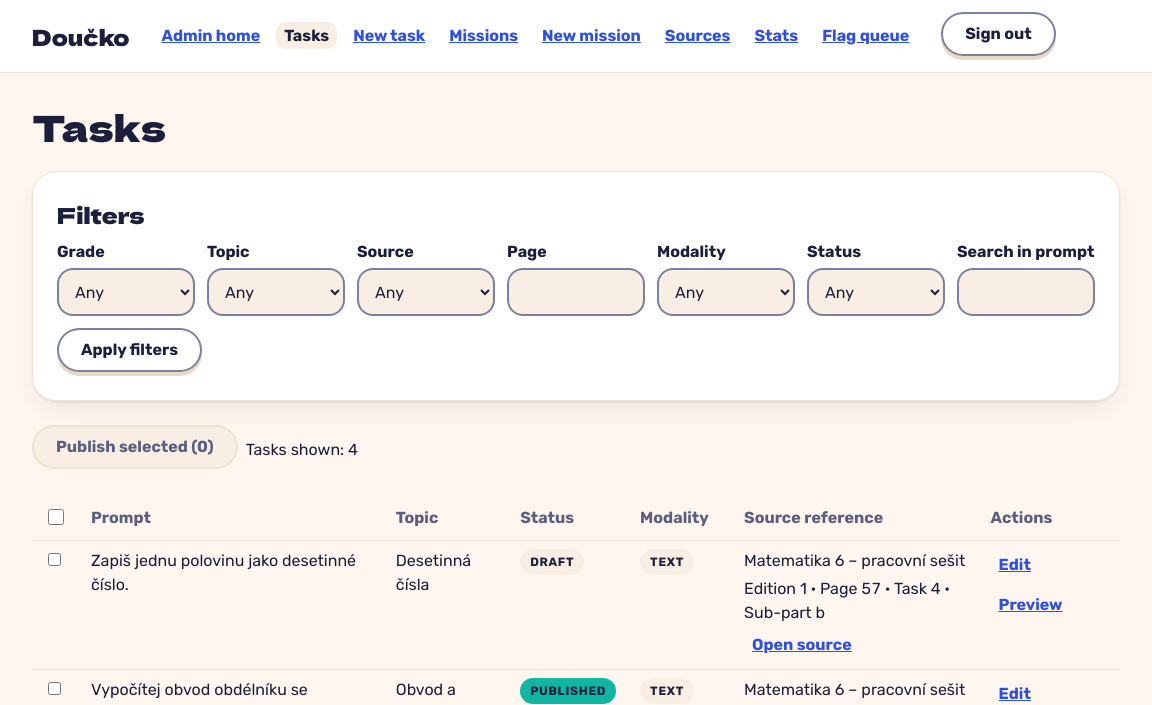
Test: bulk publish (OQ-32) › publishes the selected tasks and lists the result of each (Publish several drafts at once)
Expected: the text "Zapiš jednu polovinu jako desetinné číslo." is shown, [79,540,384,670]
Click the checkbox named "Select all shown tasks". click: (56,517)
box: [48,509,64,525]
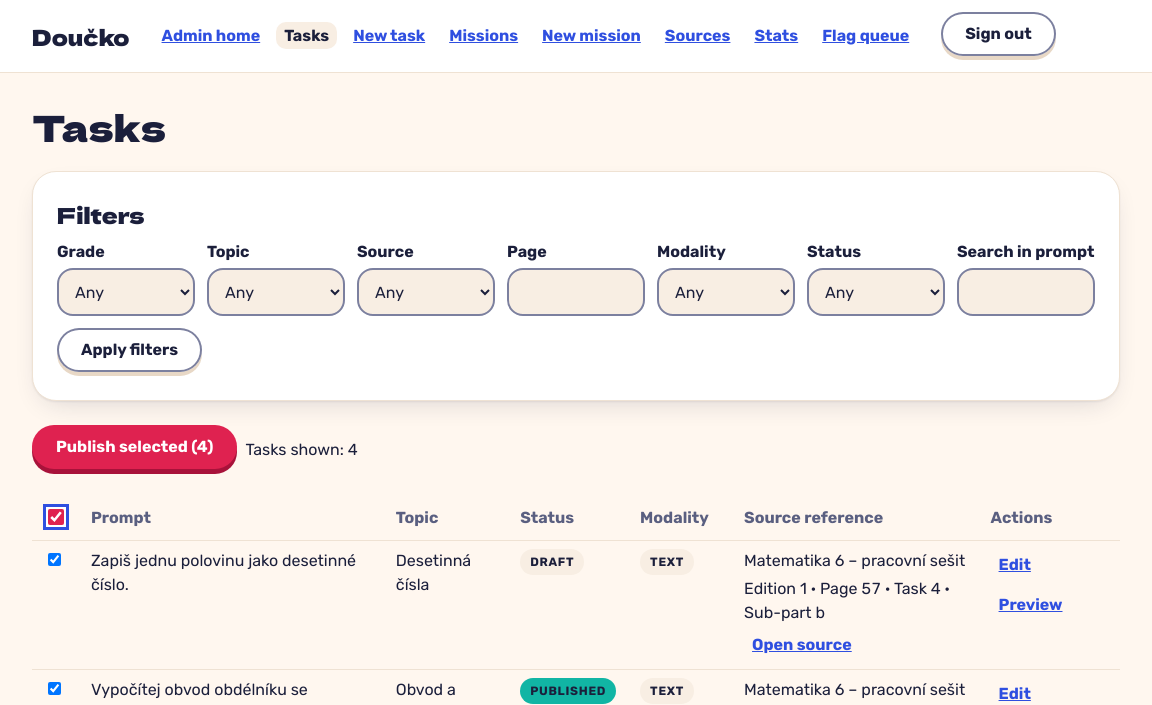
Click the button "Publish selected (4)". click: (135,447)
box: [32,425,238,469]
(page scrolled)
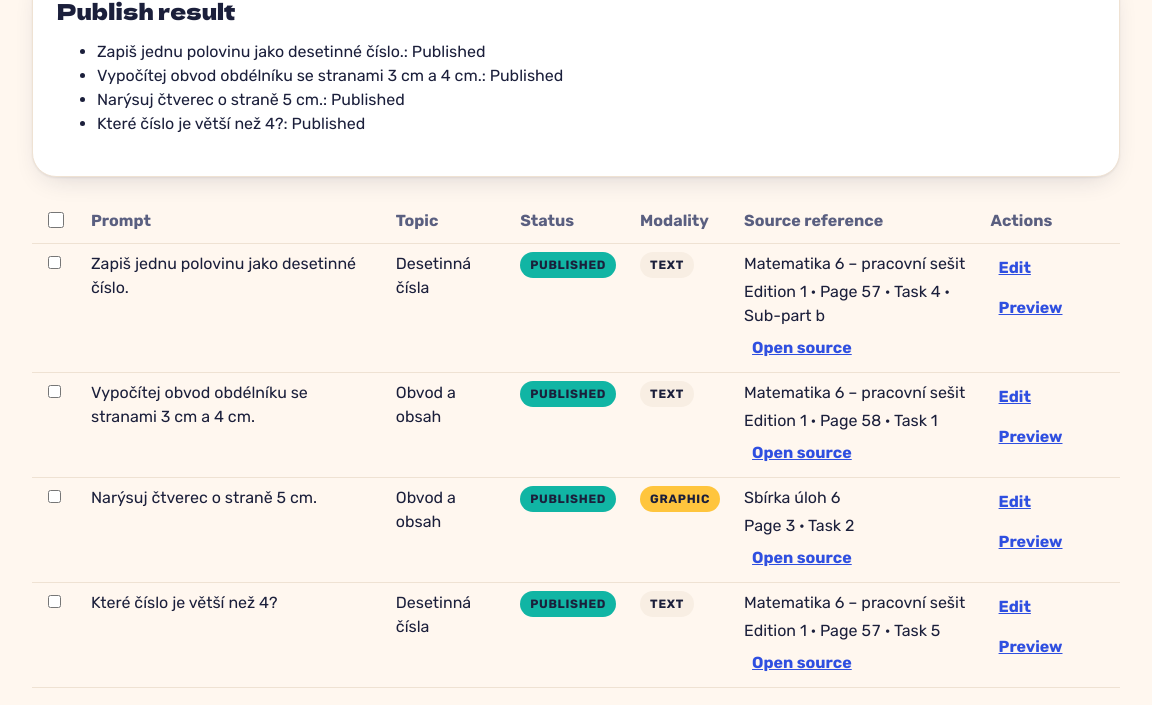
Expected: the text "Published" is shown 4 times, [412,42,486,61]; [490,66,563,85]; [331,90,405,109]; [292,114,365,133]
Expected: the text "Published" next to "Graphic" is shown, [530,492,606,506]
